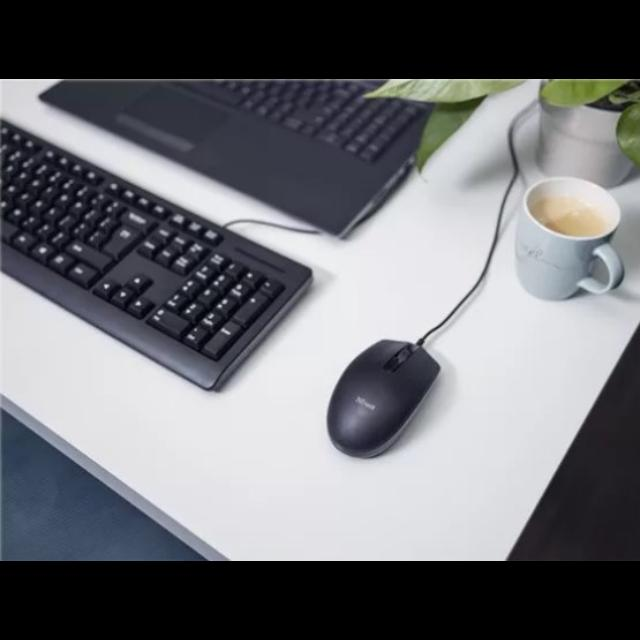Computer-Mouse: (325, 340, 444, 461)
